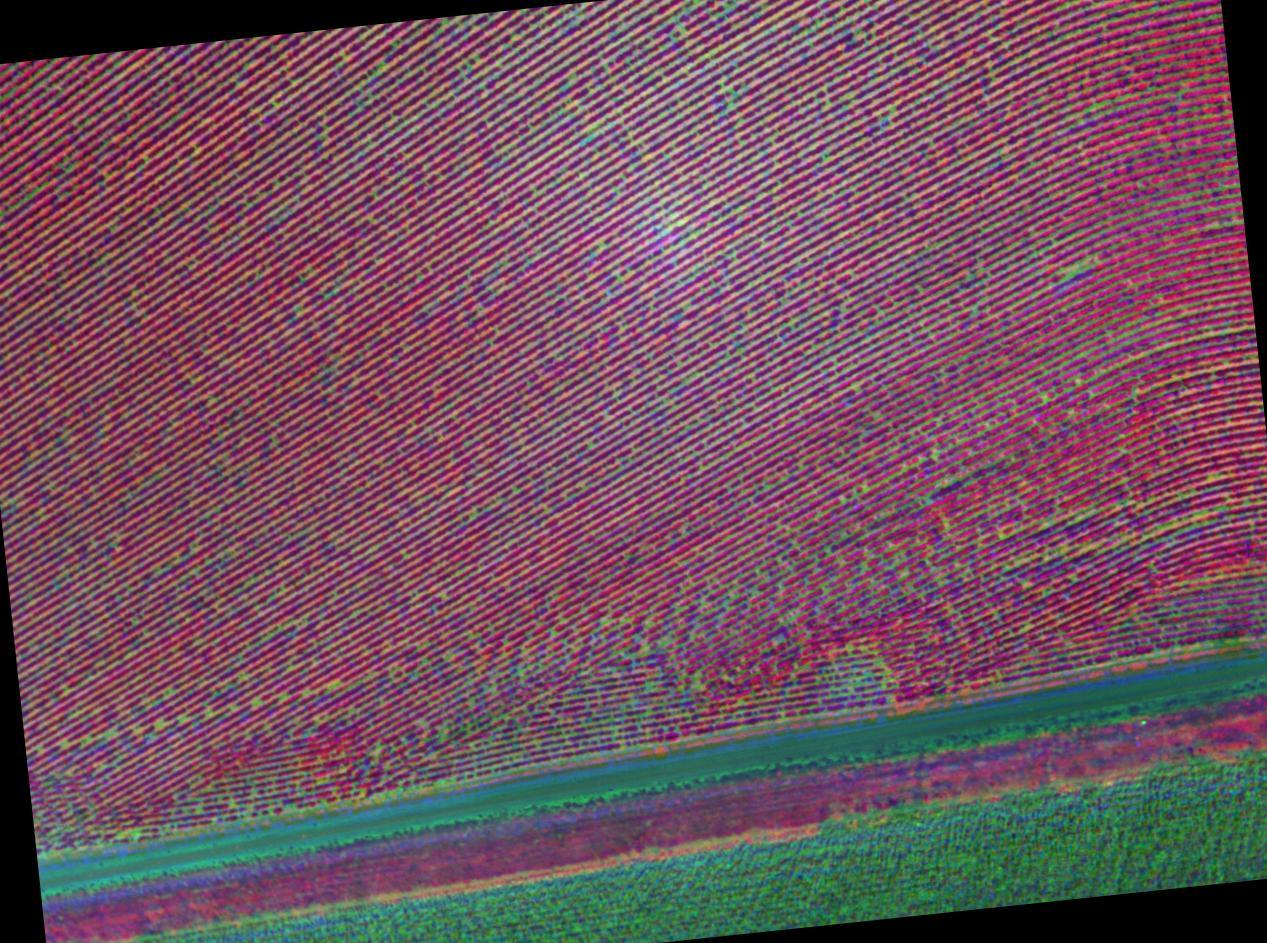dc: (107, 732, 111, 737), (604, 621, 608, 625), (644, 644, 648, 648), (647, 684, 651, 688), (156, 723, 159, 728), (672, 18, 675, 22), (590, 444, 593, 448), (514, 489, 517, 493), (779, 636, 782, 640), (563, 619, 566, 622), (368, 675, 371, 678), (739, 700, 742, 703), (680, 562, 684, 564), (699, 420, 701, 422)
